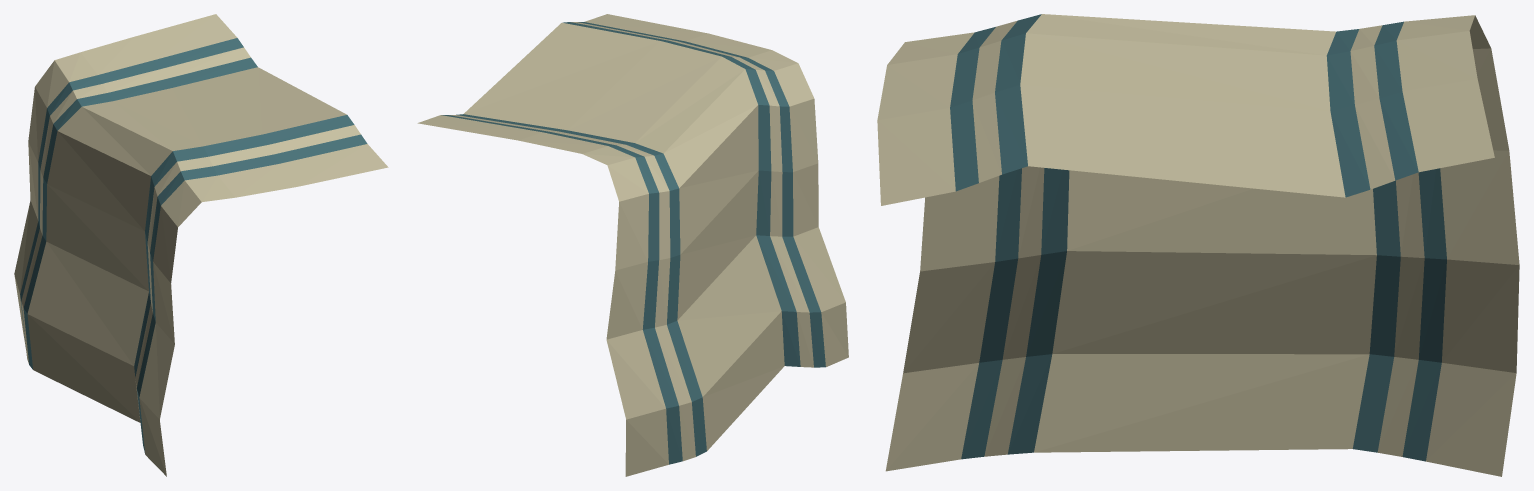
The model's file is bench_cloth.glb.
3 views of the same model, side by side, from view 1: azimuth 30°, elevation 25°; view 2: azimuth 150°, elevation 25°; view 3: azimuth 270°, elevation 25° (orthographic). The views are drawn at different scales.
Parts seen in each view (by area): view 1: bench_cloth; view 2: bench_cloth; view 3: bench_cloth.
Boxes of the visible parts, left/top/right/bottom form: bench_cloth: left=14, top=14, right=388, bottom=476; bench_cloth: left=417, top=14, right=848, bottom=476; bench_cloth: left=877, top=14, right=1519, bottom=476.
Size of the model in its own units: 0.3275 by 0.3996 by 0.4573.
